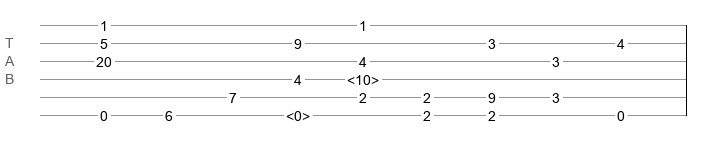0: (100, 108, 108, 118), (617, 108, 625, 118)
1: (100, 18, 108, 28), (359, 18, 367, 28)
2: (359, 90, 367, 100), (423, 90, 431, 100), (423, 108, 431, 118), (488, 108, 496, 118)
20: (96, 54, 112, 64)
3: (488, 36, 496, 46), (552, 90, 560, 100), (552, 54, 560, 64)
4: (294, 72, 302, 82), (359, 54, 367, 64), (617, 36, 625, 46)
5: (100, 36, 108, 46)
6: (165, 108, 173, 118)
7: (229, 90, 237, 100)
9: (294, 36, 302, 46), (488, 90, 496, 100)
harmonic: (347, 72, 379, 82), (286, 108, 310, 118)
